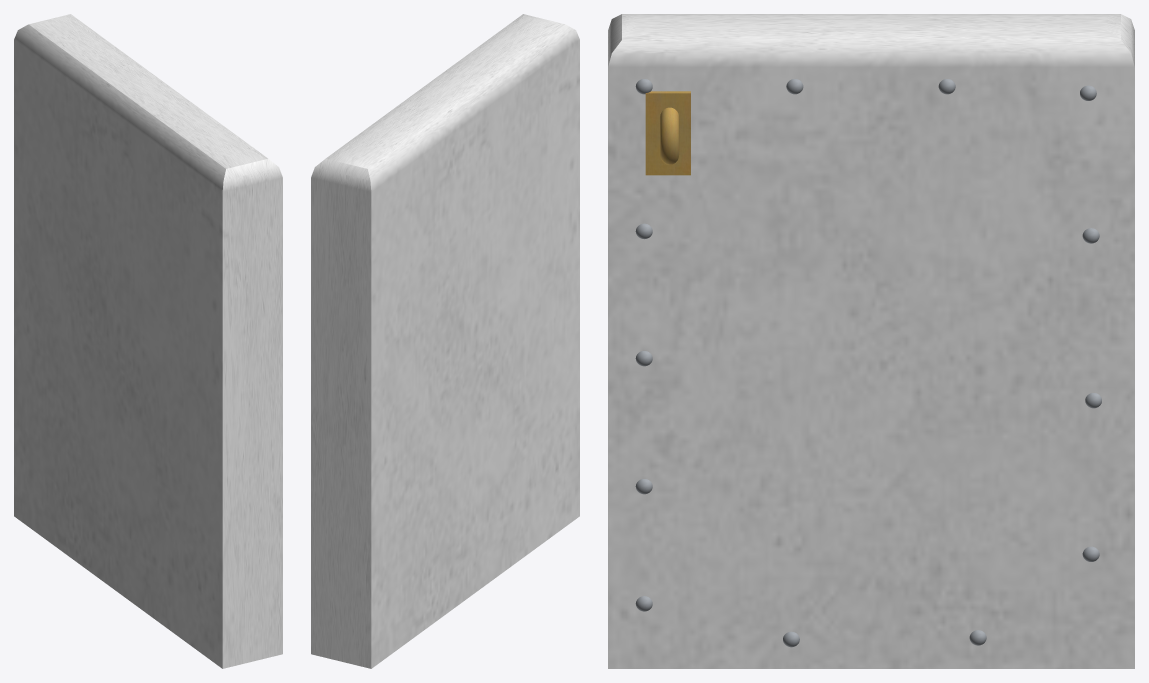
The model's file is refri_puerta_abajo.obj.
3 renders of one model, left to right at view 1: azimuth 30°, elevation 25°; view 2: azimuth 150°, elevation 25°; view 3: azimuth 270°, elevation 25°, orthographic. The views are drawn at different scales.
Parts seen in each view (by area): view 1: polySurface1131; view 2: polySurface1131; view 3: polySurface1131.
Part boxes in pixels (x1,y1,x2,y2): polySurface1131: (14,14,282,668); polySurface1131: (311,14,579,668); polySurface1131: (608,14,1134,668).
Bounding box in the file's own units: 0.1894 × 1.18 × 0.8998.
3 materials, 3 textured.
